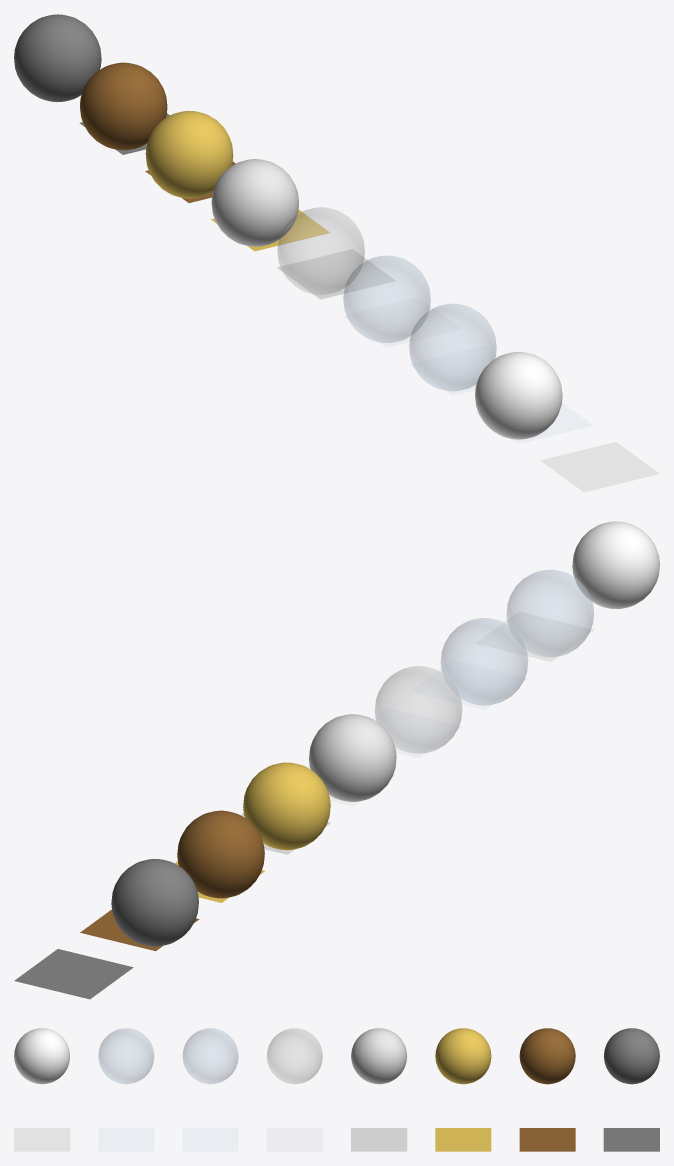
Rendered from balls.glb.
3 views of the same model, one above another, from view 1: azimuth 30°, elevation 25°; view 2: azimuth 150°, elevation 25°; view 3: azimuth 270°, elevation 25° (orthographic). The views are drawn at different scales.
Visible parts, largest first — view 1: Sphere.005, Sphere.001, Sphere, Sphere.002, Sphere.006, Sphere.004, Sphere.007, Sphere.003, Plane.007, Plane.001, Plane.002, Plane.006; view 2: Sphere.005, Sphere.007, Sphere.002, Sphere.003, Sphere.006, Sphere.004, Sphere.001, Sphere, Plane.004, Plane.007, Plane.003; view 3: Sphere.004, Sphere.006, Sphere.001, Sphere.005, Sphere.007, Sphere, Sphere.003, Sphere.002, Plane.001, Plane.002, Plane.003, Plane.004 (+4 smaller).
Part boxes in pixels (x1=…): Sphere.005: x1=475, y1=352, x2=562, y2=439; Sphere.001: x1=211, y1=159, x2=298, y2=246; Sphere: x1=277, y1=207, x2=364, y2=294; Sphere.002: x1=343, y1=256, x2=430, y2=342; Sphere.006: x1=80, y1=62, x2=167, y2=150; Sphere.004: x1=145, y1=111, x2=233, y2=198; Sphere.007: x1=14, y1=14, x2=101, y2=101; Sphere.003: x1=409, y1=304, x2=496, y2=390; Plane.007: x1=540, y1=442, x2=659, y2=492; Plane.001: x1=277, y1=249, x2=395, y2=299; Plane.002: x1=211, y1=210, x2=329, y2=251; Plane.006: x1=475, y1=403, x2=593, y2=443; Sphere.005: x1=572, y1=521, x2=659, y2=608; Sphere.007: x1=111, y1=859, x2=198, y2=946; Sphere.002: x1=441, y1=618, x2=527, y2=705; Sphere.003: x1=507, y1=570, x2=593, y2=656; Sphere.006: x1=177, y1=810, x2=264, y2=898; Sphere.004: x1=243, y1=762, x2=330, y2=850; Sphere.001: x1=309, y1=714, x2=396, y2=801; Sphere: x1=375, y1=666, x2=461, y2=753; Plane.004: x1=14, y1=949, x2=133, y2=999; Plane.007: x1=475, y1=611, x2=594, y2=661; Plane.003: x1=80, y1=909, x2=199, y2=951; Sphere.004: x1=435, y1=1028, x2=491, y2=1084; Sphere.006: x1=519, y1=1028, x2=575, y2=1084; Sphere.001: x1=351, y1=1028, x2=407, y2=1084; Sphere.005: x1=14, y1=1028, x2=69, y2=1084; Sphere.007: x1=604, y1=1028, x2=659, y2=1084; Sphere: x1=267, y1=1028, x2=322, y2=1083; Sphere.003: x1=98, y1=1028, x2=153, y2=1083; Sphere.002: x1=183, y1=1028, x2=238, y2=1083; Plane.001: x1=351, y1=1128, x2=407, y2=1151; Plane.002: x1=435, y1=1128, x2=491, y2=1151; Plane.003: x1=519, y1=1128, x2=575, y2=1151; Plane.004: x1=603, y1=1128, x2=659, y2=1151.
Size of the model in its own units: 4.14 by 3.29 by 23.
